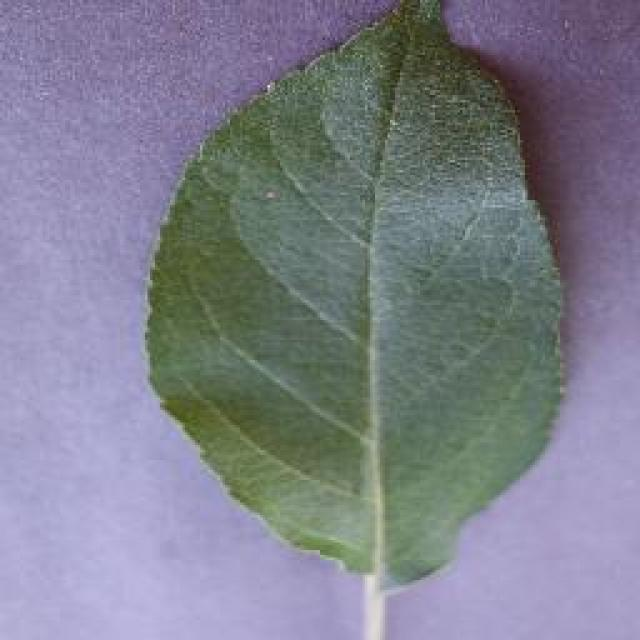apple healthy: (140, 0, 570, 595)
